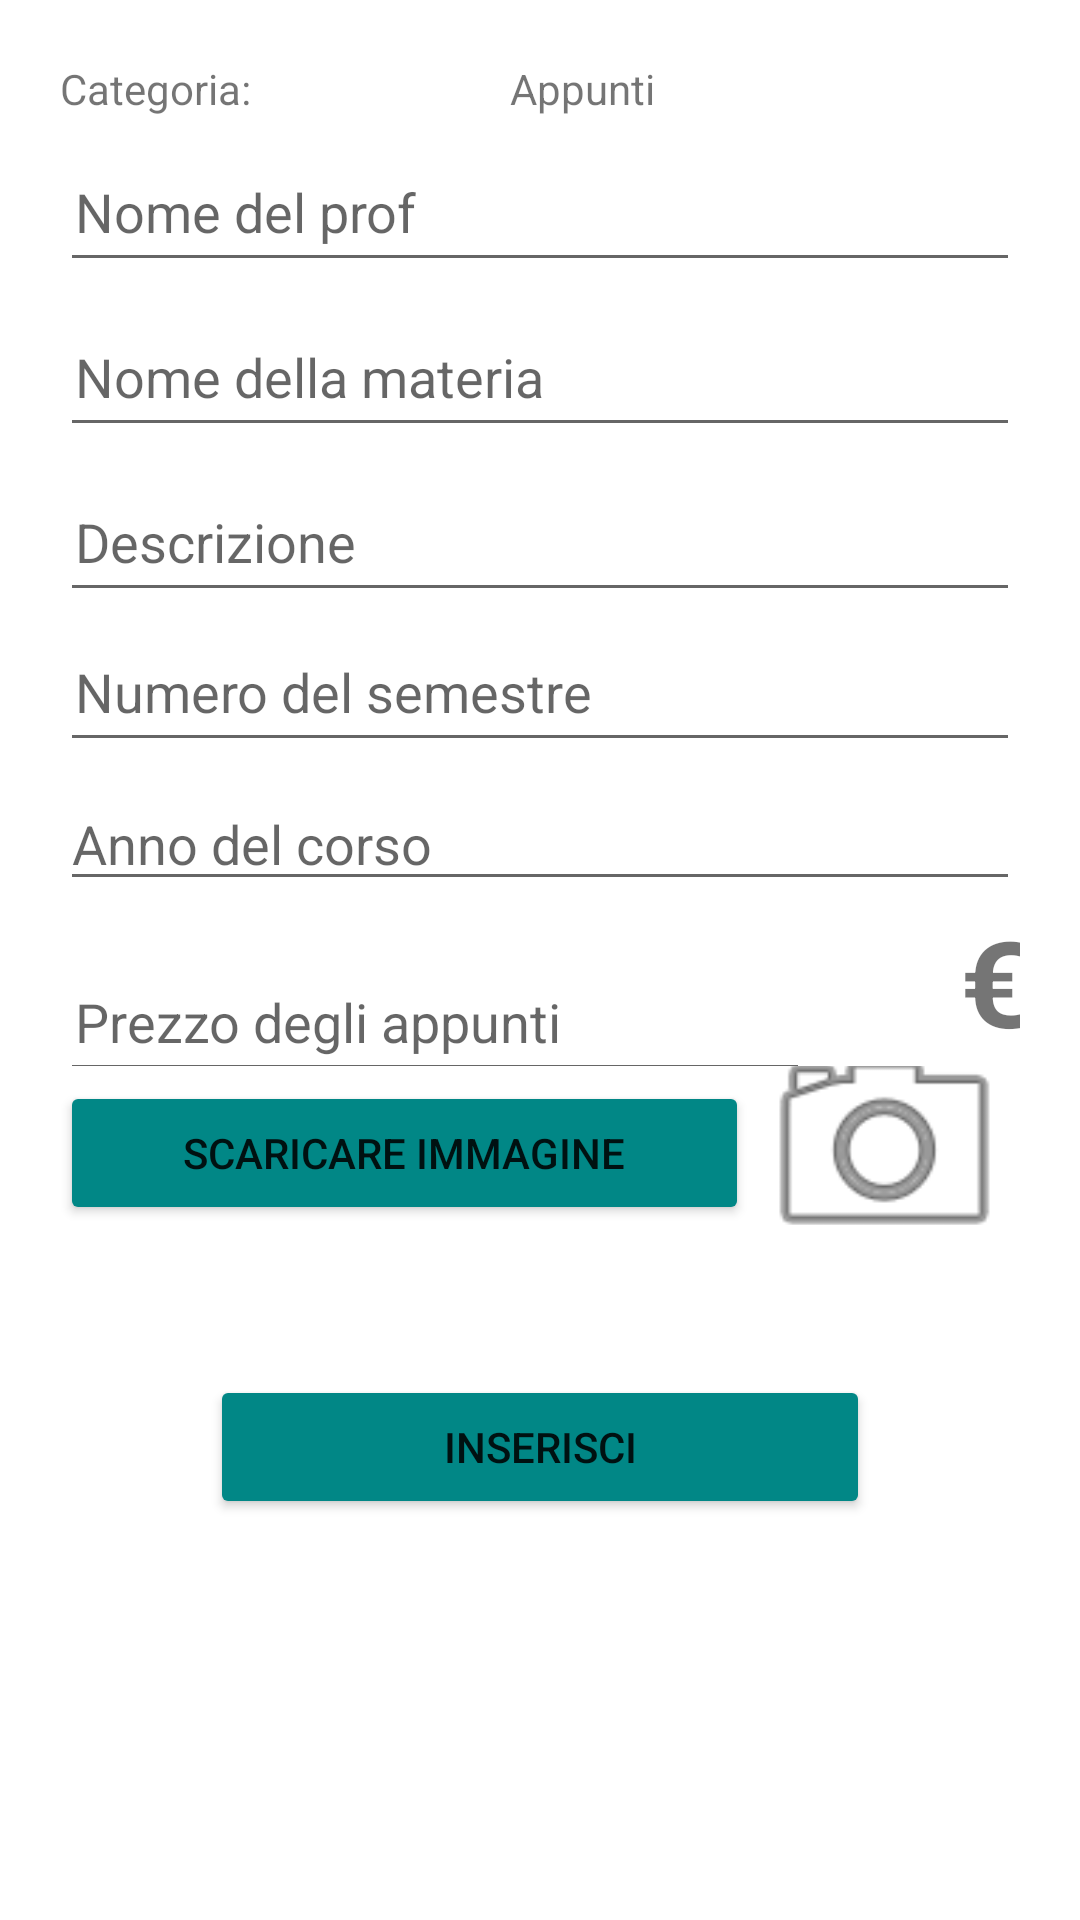

Point at icon controls on the screen. Image size 1080x1920, points as point (x, y).
camera: point (884, 1145)
